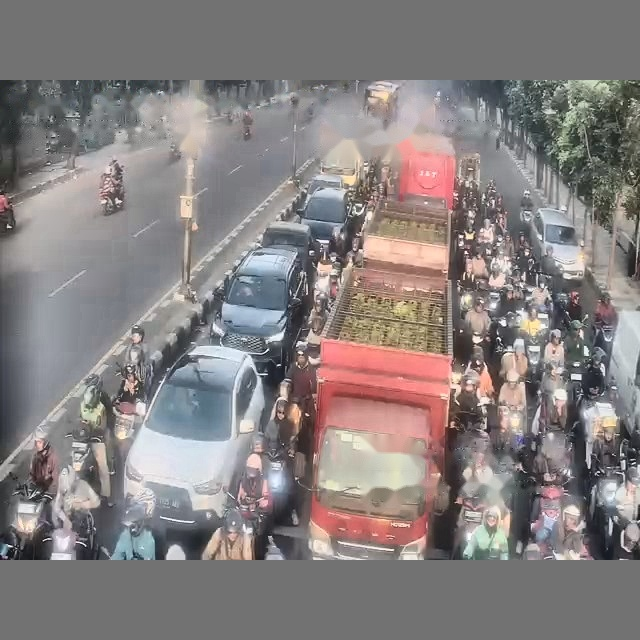Mobil: (124, 345, 264, 529), (210, 247, 309, 379), (259, 221, 318, 296), (297, 188, 361, 255), (529, 207, 585, 282), (306, 173, 343, 195)
Motor: (3, 484, 51, 559), (589, 467, 623, 557), (43, 513, 98, 559), (65, 425, 102, 484), (243, 124, 251, 140)
Truk: (308, 259, 452, 559), (364, 199, 451, 273), (397, 133, 456, 209)
